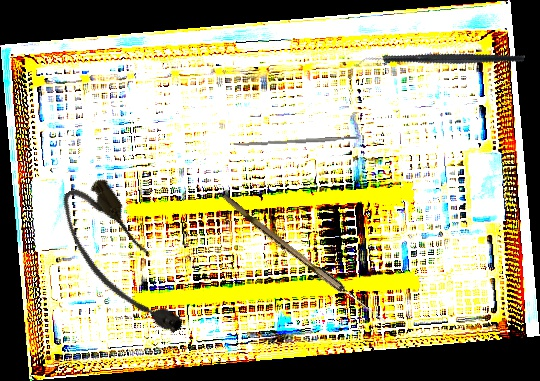Cannula: (48, 171, 195, 353)
Chopper: (355, 1, 526, 123)
Scalpel Handle: (232, 135, 361, 148)
Surgical Spoon: (218, 193, 391, 327)
